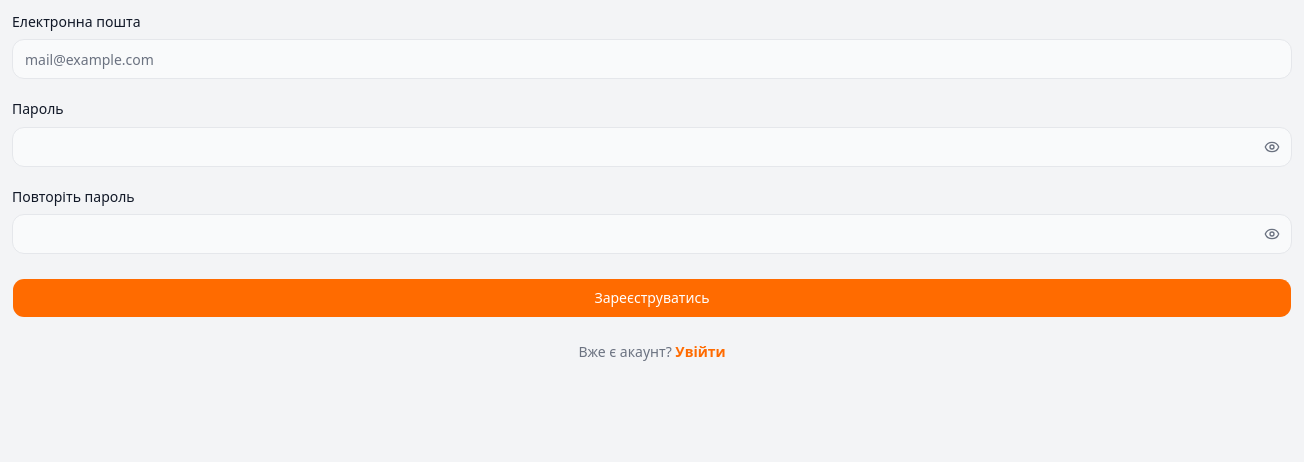
Test: RegisterForm › validates the email format
In the field labelled "Електронна пошта": coordinates (652, 59) [12,39,1292,79], type "not-an-email"
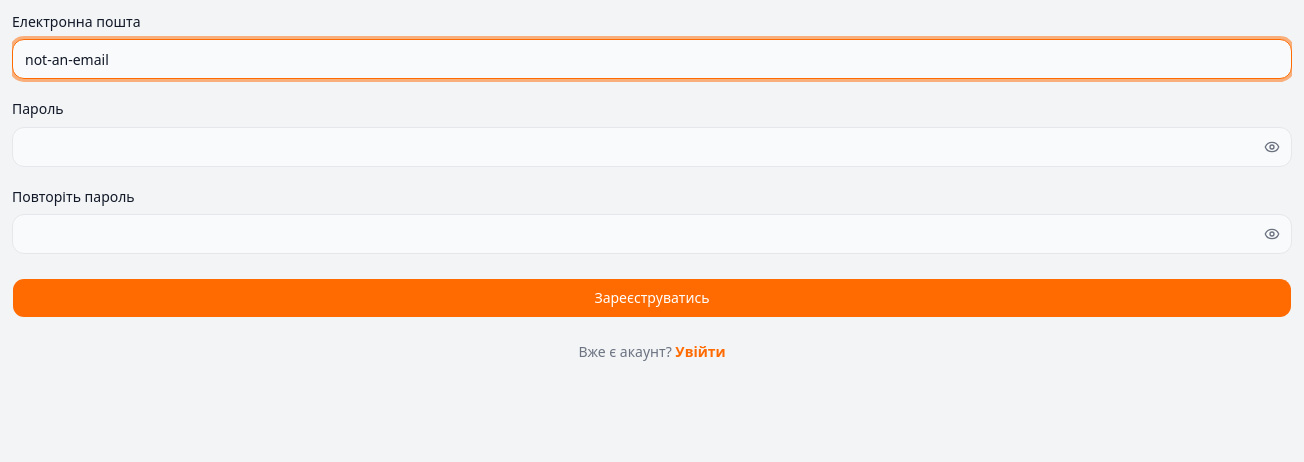
Click the button "Зареєструватись": coordinates (652, 298) [12,278,1292,318]
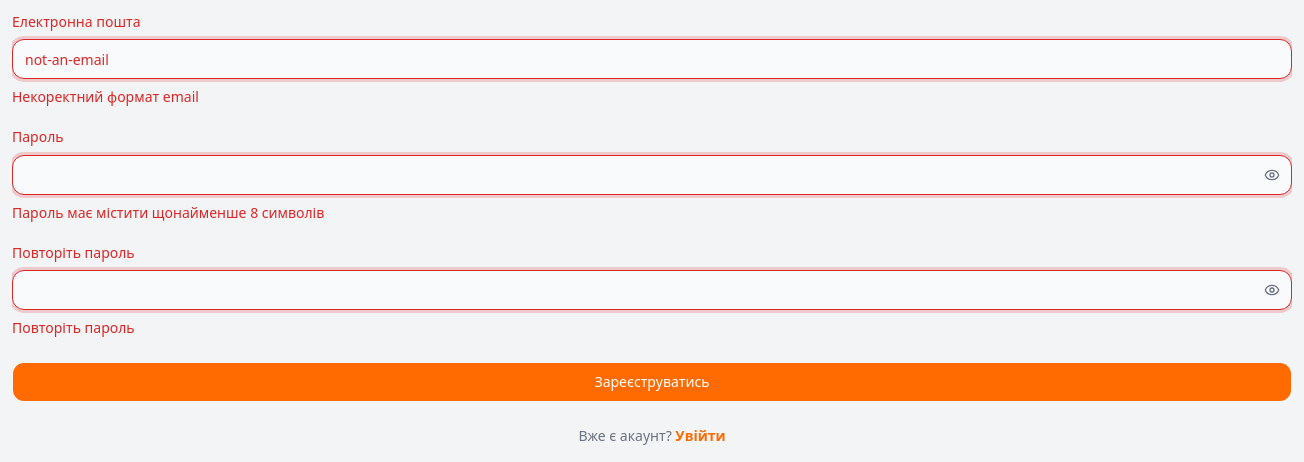
expect the text "Некоректний формат email" is shown: met, box [12,87,199,106]
